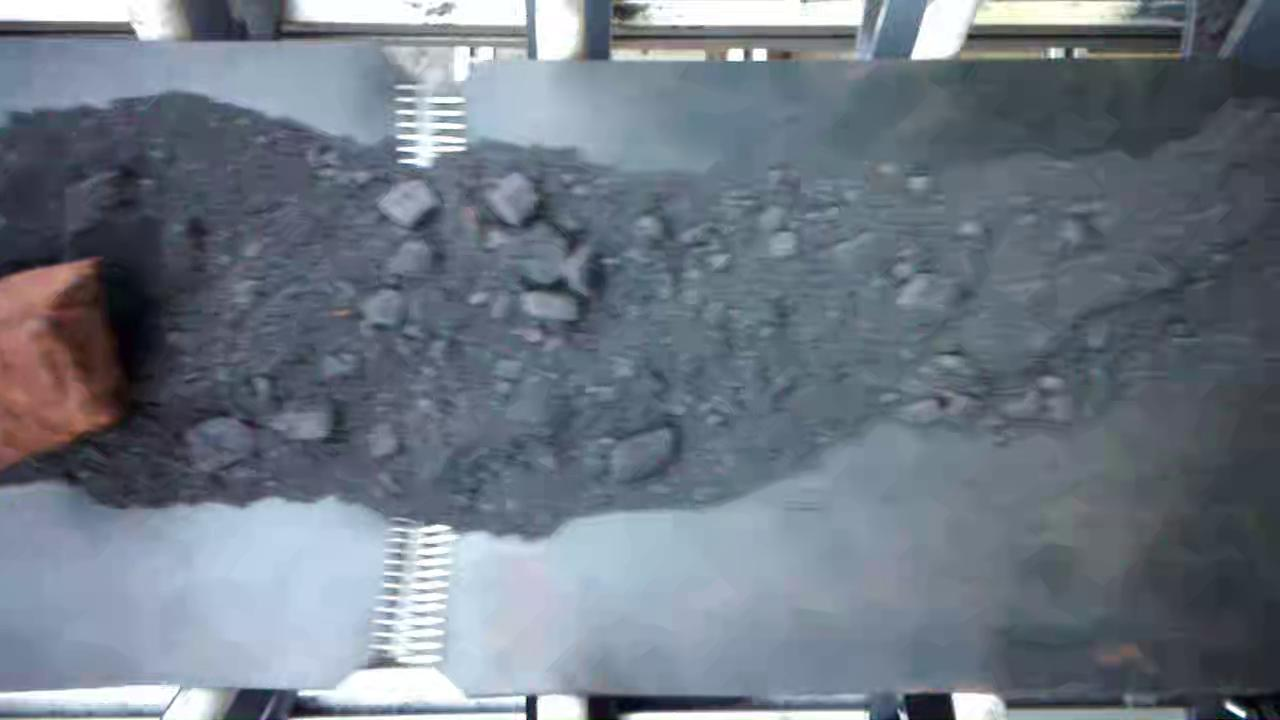conveyor: (1, 69, 1280, 683)
